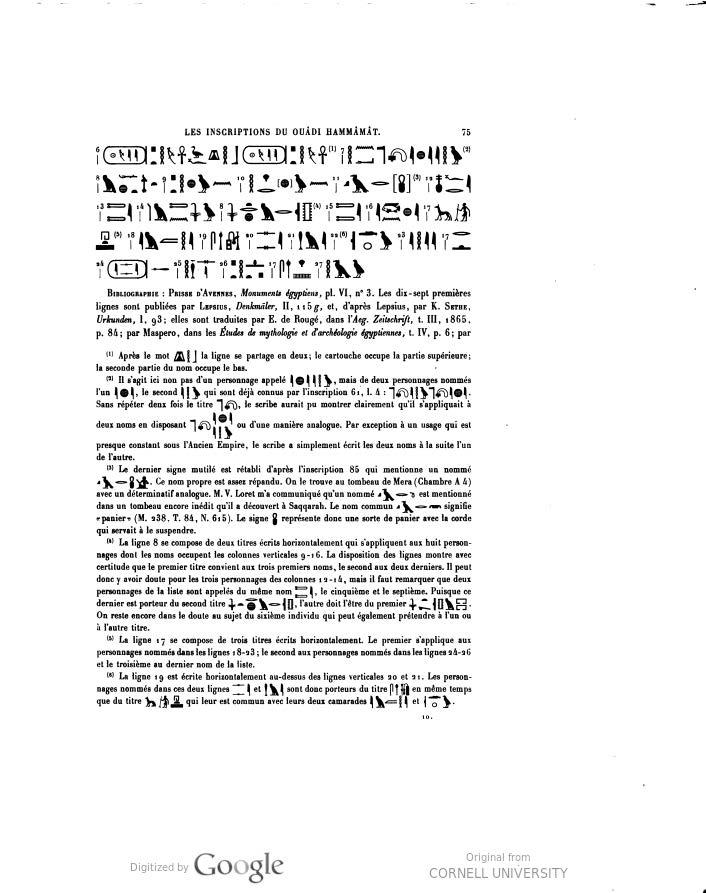circle: (92, 136, 171, 181), (101, 249, 164, 295), (235, 142, 300, 172)
